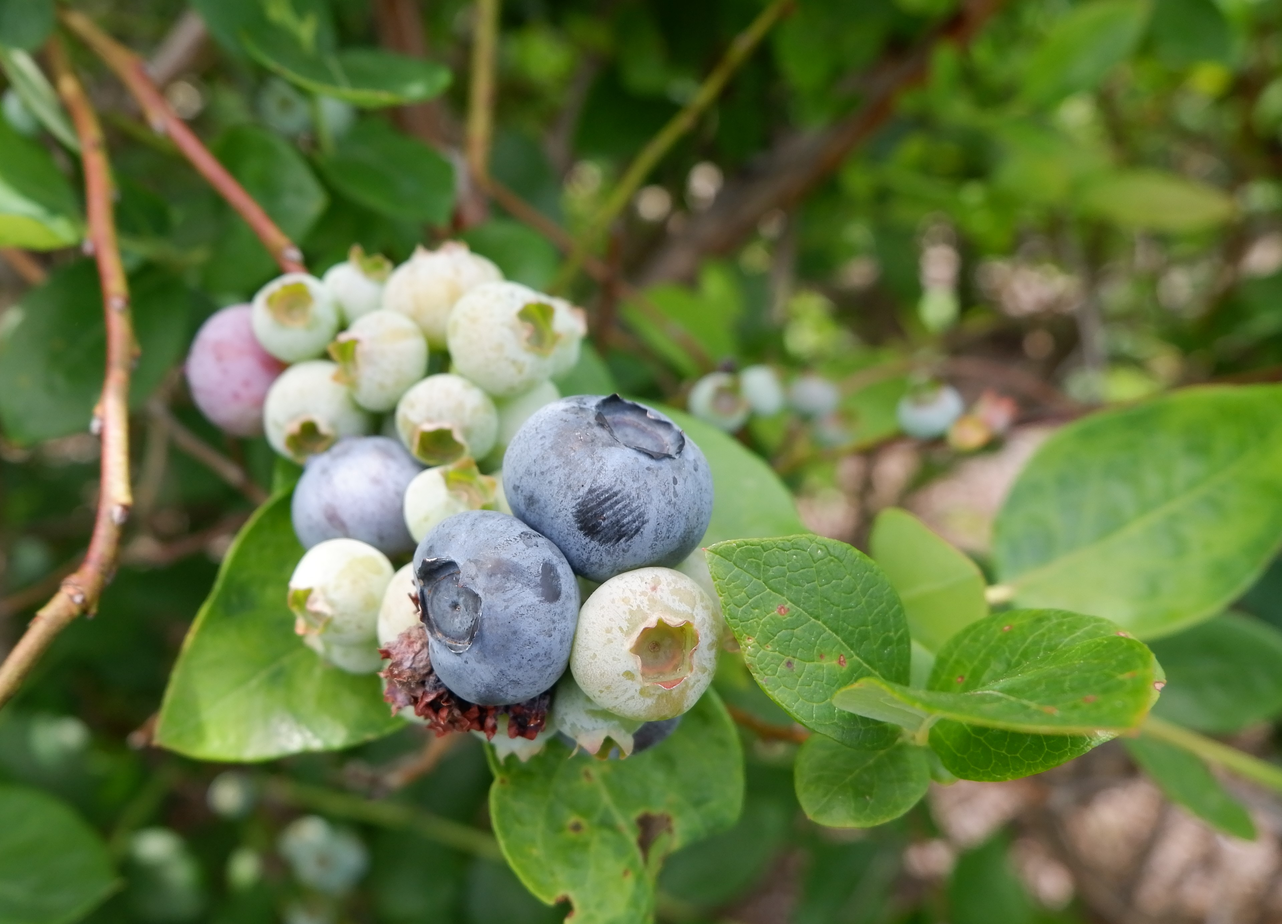Immature: (573, 574, 719, 717), (446, 282, 561, 394), (189, 306, 284, 435), (385, 238, 497, 344), (289, 542, 389, 653), (265, 363, 376, 459), (330, 313, 425, 408), (395, 375, 494, 465), (554, 672, 640, 758), (481, 381, 558, 473), (253, 276, 337, 360), (407, 465, 498, 542), (471, 706, 559, 766), (322, 251, 392, 322), (378, 565, 416, 649), (550, 299, 585, 378), (323, 643, 383, 673)
Mature: (506, 397, 710, 578), (416, 512, 576, 706), (294, 439, 417, 564), (633, 716, 680, 749)
